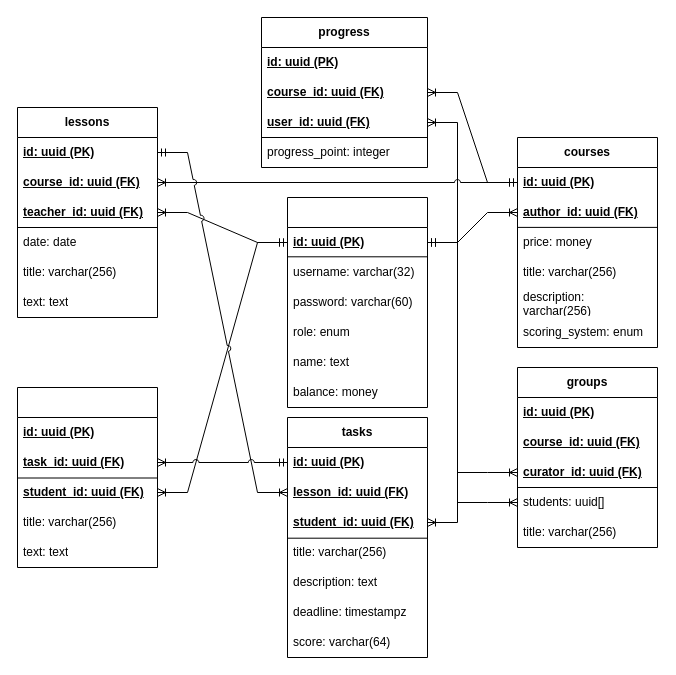
This 676x675 diagram has some shape labels left out. Each missing label, with the box of its shape:
hometasks: (16, 386, 158, 568)
users: (286, 196, 428, 408)
